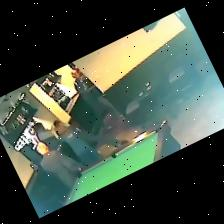person: (71, 68, 123, 123), (35, 143, 83, 188), (54, 125, 101, 165), (69, 121, 126, 147)
